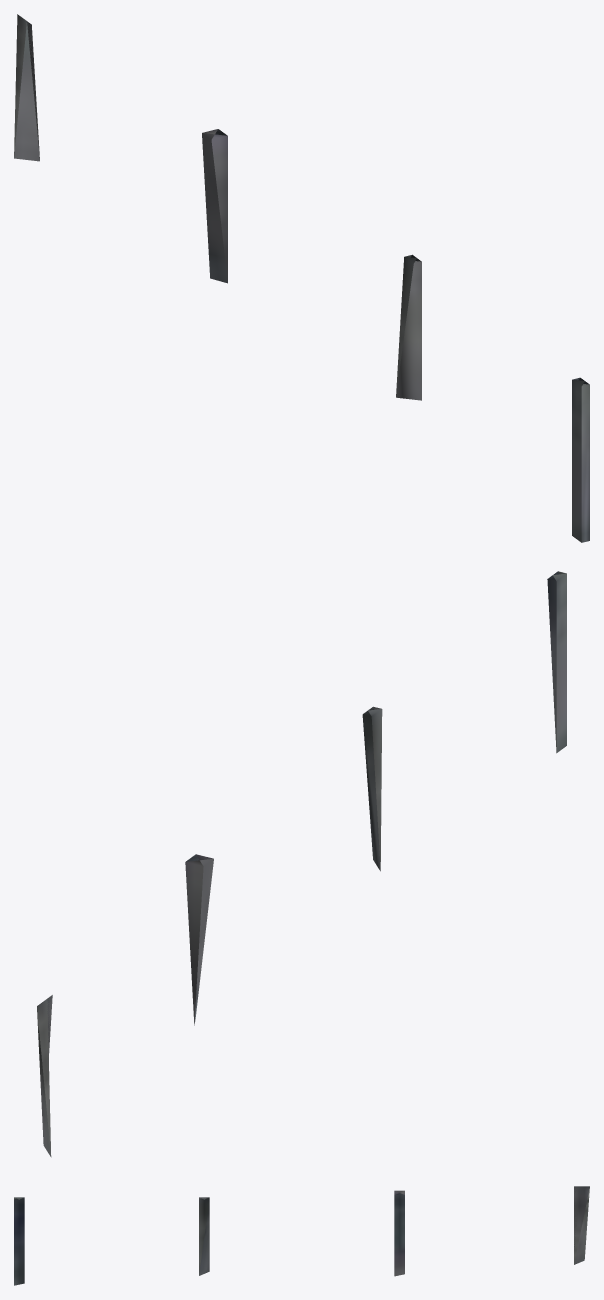
3 renders of one model, top to bottom at view 1: azimuth 30°, elevation 25°; view 2: azimuth 150°, elevation 25°; view 3: azimuth 270°, elevation 25°, orthographic. The views are drawn at different scales.
Parts seen in each view (by area): view 1: 3043627270437042704_0; view 2: 3043627270437042704_0; view 3: 3043627270437042704_0.
Boxes of the visible parts, <box> form: 3043627270437042704_0: <box>14,14,589,542</box>; 3043627270437042704_0: <box>37,571,566,1157</box>; 3043627270437042704_0: <box>14,1186,589,1285</box>.
Bounding box in the file's own units: 2.16 × 5.55 × 33.63.
1 material, 1 textured.
